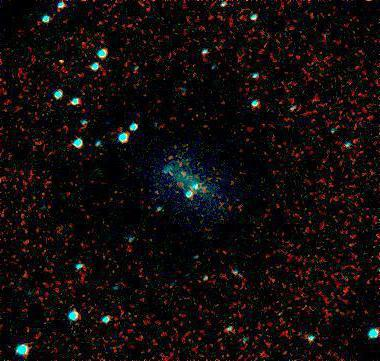star: (47, 48, 77, 78)
